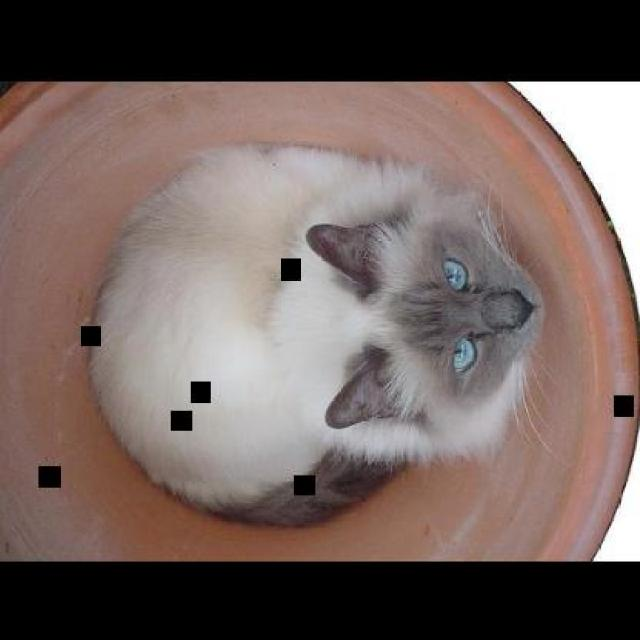unauthorized: (84, 140, 554, 528)
